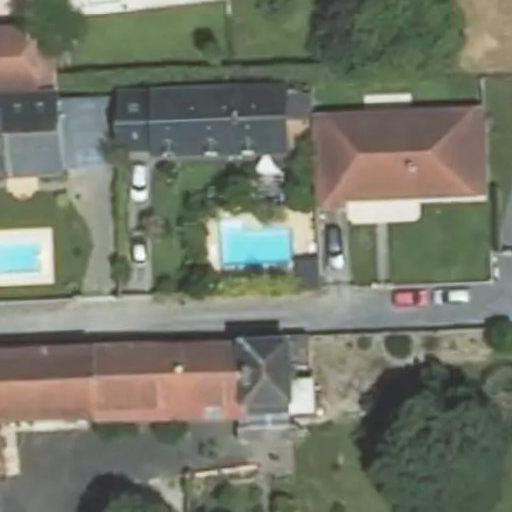pool: (220, 220, 291, 261)
